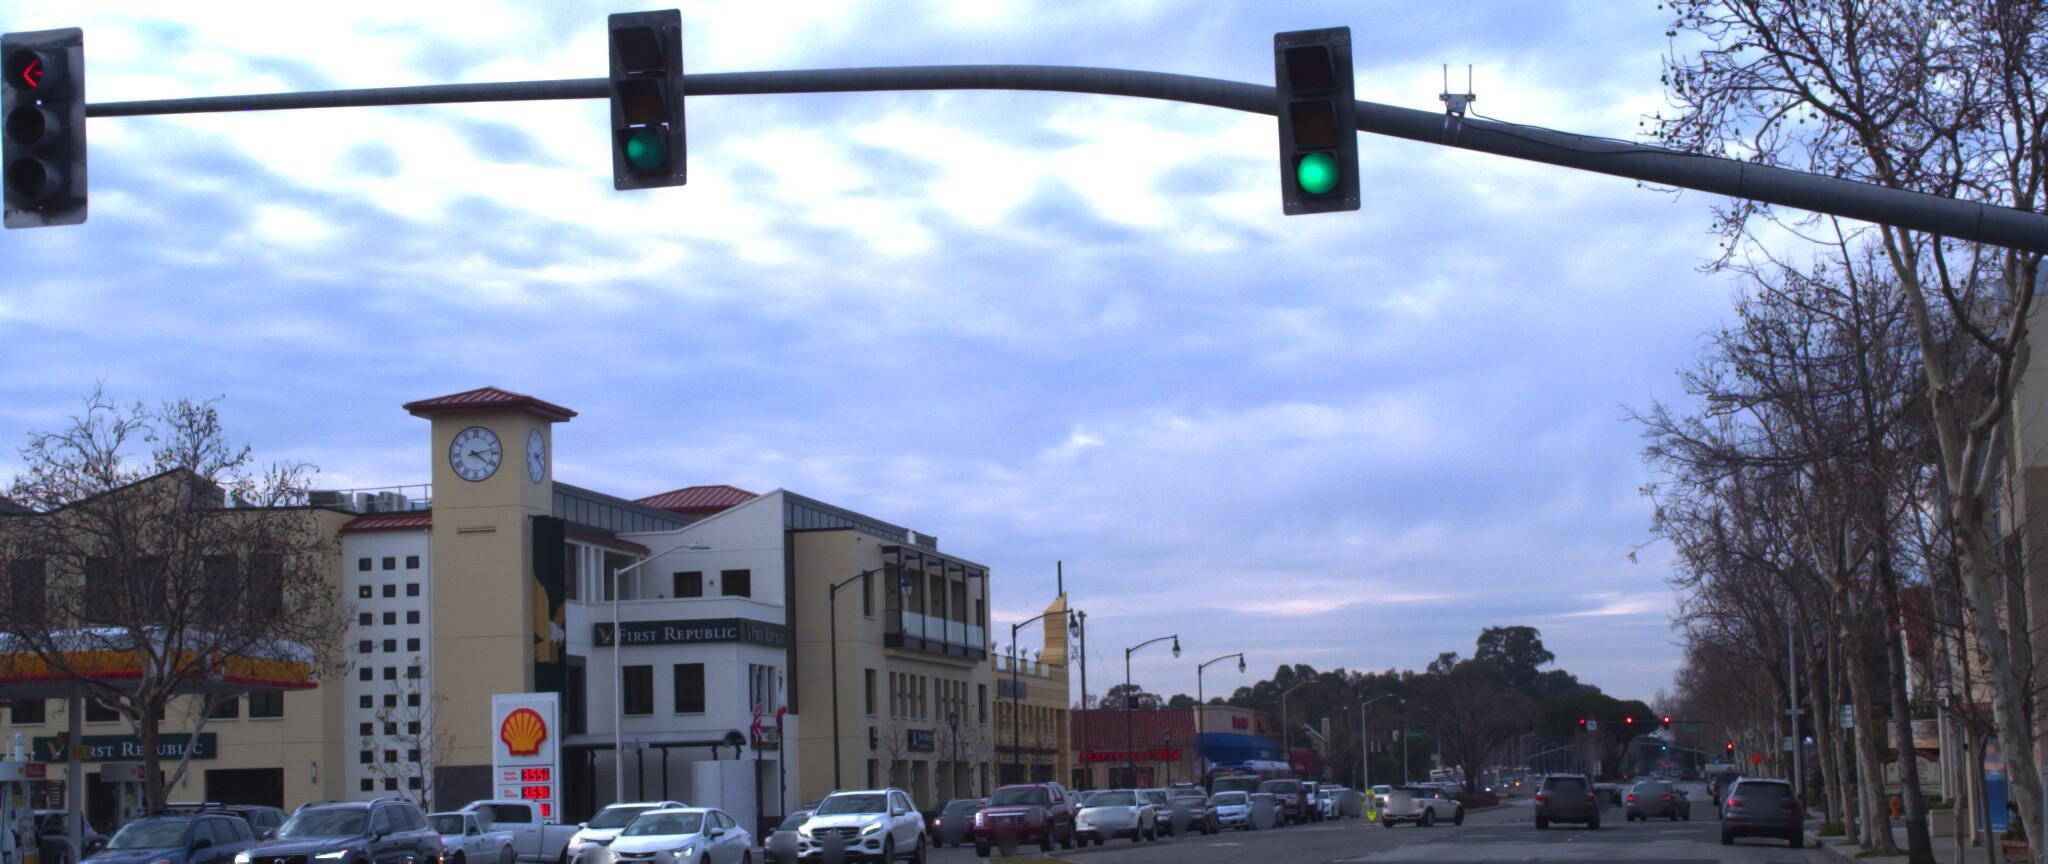car: (406, 790, 637, 864), (52, 790, 280, 864), (206, 797, 453, 864), (550, 792, 714, 864), (782, 790, 929, 864), (581, 801, 754, 864), (955, 778, 1068, 854), (364, 809, 517, 864), (1706, 780, 1795, 861), (0, 833, 9, 864)
